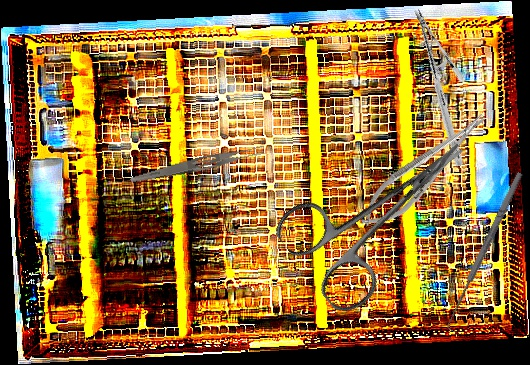Dressing Forceps: (129, 141, 267, 190)
Hook Surgical: (442, 170, 530, 334)
Iris Scissors: (269, 103, 500, 321)
Needle Holder: (357, 5, 520, 170), (351, 102, 497, 240)
